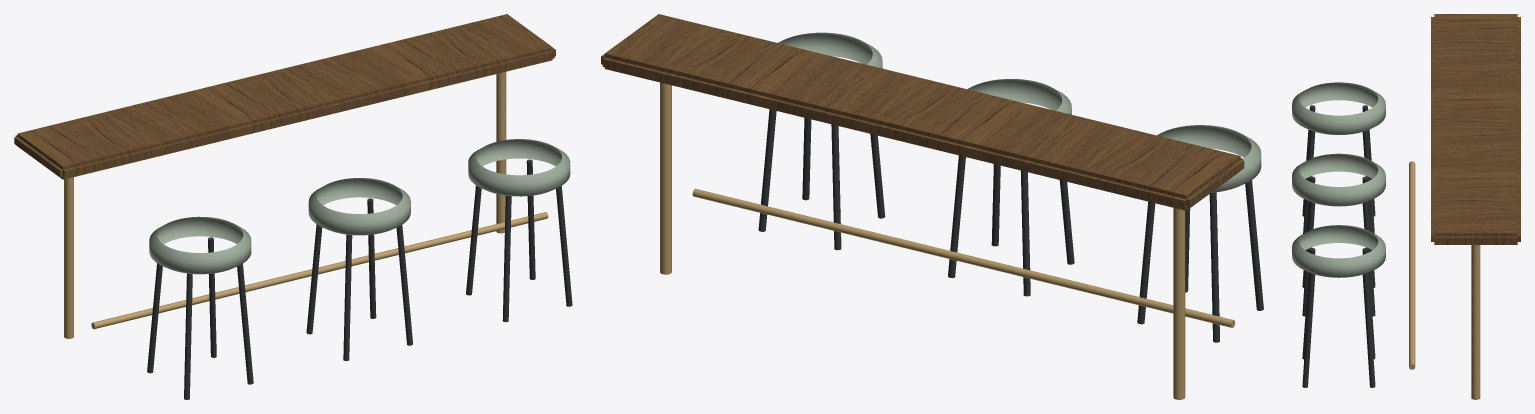
Rendered from fixture_v25_window_bar.glb.
3 views of the same model, side by side, from view 1: azimuth 30°, elevation 25°; view 2: azimuth 150°, elevation 25°; view 3: azimuth 270°, elevation 25° (orthographic). The views are drawn at different scales.
Visible parts, largest first — view 1: fixture_v25_window_bar_CC0_Oak_veneer, fixture_v25_window_bar_V25_woven_twill, fixture_v25_window_bar_Anodised_graphite, fixture_v25_window_bar_Satin_champagne; view 2: fixture_v25_window_bar_CC0_Oak_veneer, fixture_v25_window_bar_Anodised_graphite, fixture_v25_window_bar_Satin_champagne, fixture_v25_window_bar_V25_woven_twill; view 3: fixture_v25_window_bar_CC0_Oak_veneer, fixture_v25_window_bar_V25_woven_twill, fixture_v25_window_bar_Anodised_graphite, fixture_v25_window_bar_Satin_champagne.
Part boxes in pixels (<box>): fixture_v25_window_bar_CC0_Oak_veneer: <box>14,14,555,179</box>; fixture_v25_window_bar_V25_woven_twill: <box>149,139,570,274</box>; fixture_v25_window_bar_Anodised_graphite: <box>147,159,572,399</box>; fixture_v25_window_bar_Satin_champagne: <box>64,72,548,338</box>; fixture_v25_window_bar_CC0_Oak_veneer: <box>601,14,1244,210</box>; fixture_v25_window_bar_Anodised_graphite: <box>758,109,1263,342</box>; fixture_v25_window_bar_Satin_champagne: <box>660,82,1235,399</box>; fixture_v25_window_bar_V25_woven_twill: <box>778,32,1261,192</box>; fixture_v25_window_bar_CC0_Oak_veneer: <box>1431,14,1520,244</box>; fixture_v25_window_bar_V25_woven_twill: <box>1292,82,1385,277</box>; fixture_v25_window_bar_Anodised_graphite: <box>1302,105,1375,387</box>; fixture_v25_window_bar_Satin_champagne: <box>1409,161,1480,399</box>.
Size of the model in its own units: 2.8 by 1.05 by 1.22.
4 materials, 1 textured.
